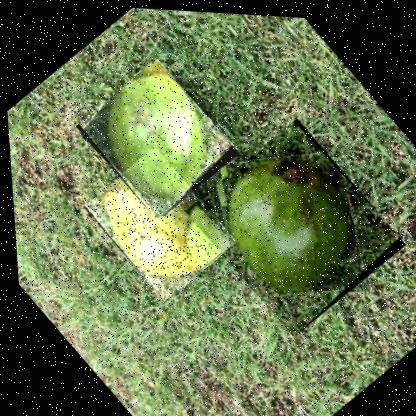guava: (176, 107, 409, 339), (70, 51, 242, 223), (77, 140, 237, 302)
